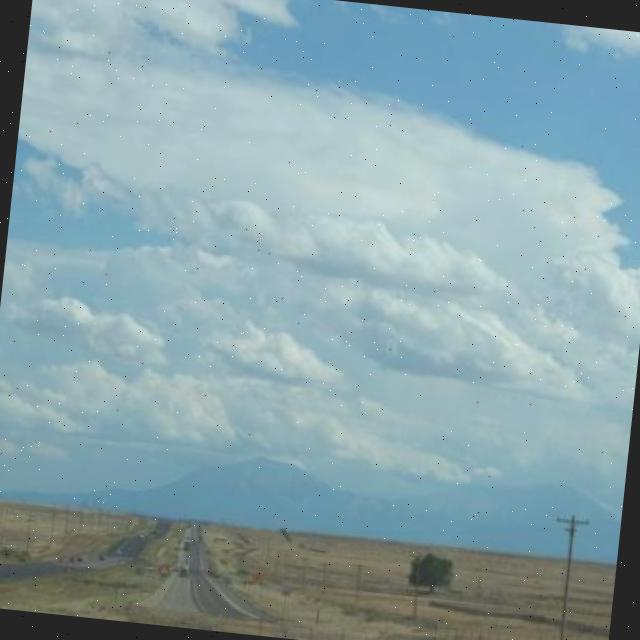Cb: (1, 1, 640, 491)
